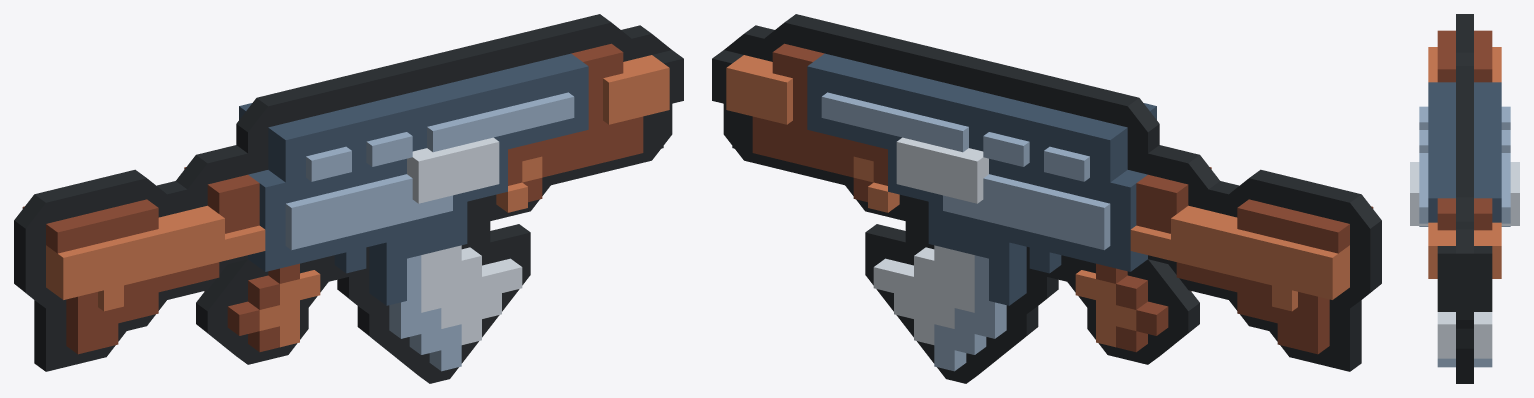
3 renders of one model, left to right at view 1: azimuth 30°, elevation 25°; view 2: azimuth 150°, elevation 25°; view 3: azimuth 270°, elevation 25°, orthographic. The views are drawn at different scales.
Visible parts, largest first — view 1: generated(Clone); view 2: generated(Clone); view 3: generated(Clone).
Boxes of the visible parts, x1=… form: generated(Clone): x1=14, y1=14, x2=683, y2=383; generated(Clone): x1=712, y1=14, x2=1381, y2=383; generated(Clone): x1=1410, y1=14, x2=1519, y2=383.
Size of the model in its own units: 32 by 15 by 6.
1 material, 1 textured.
